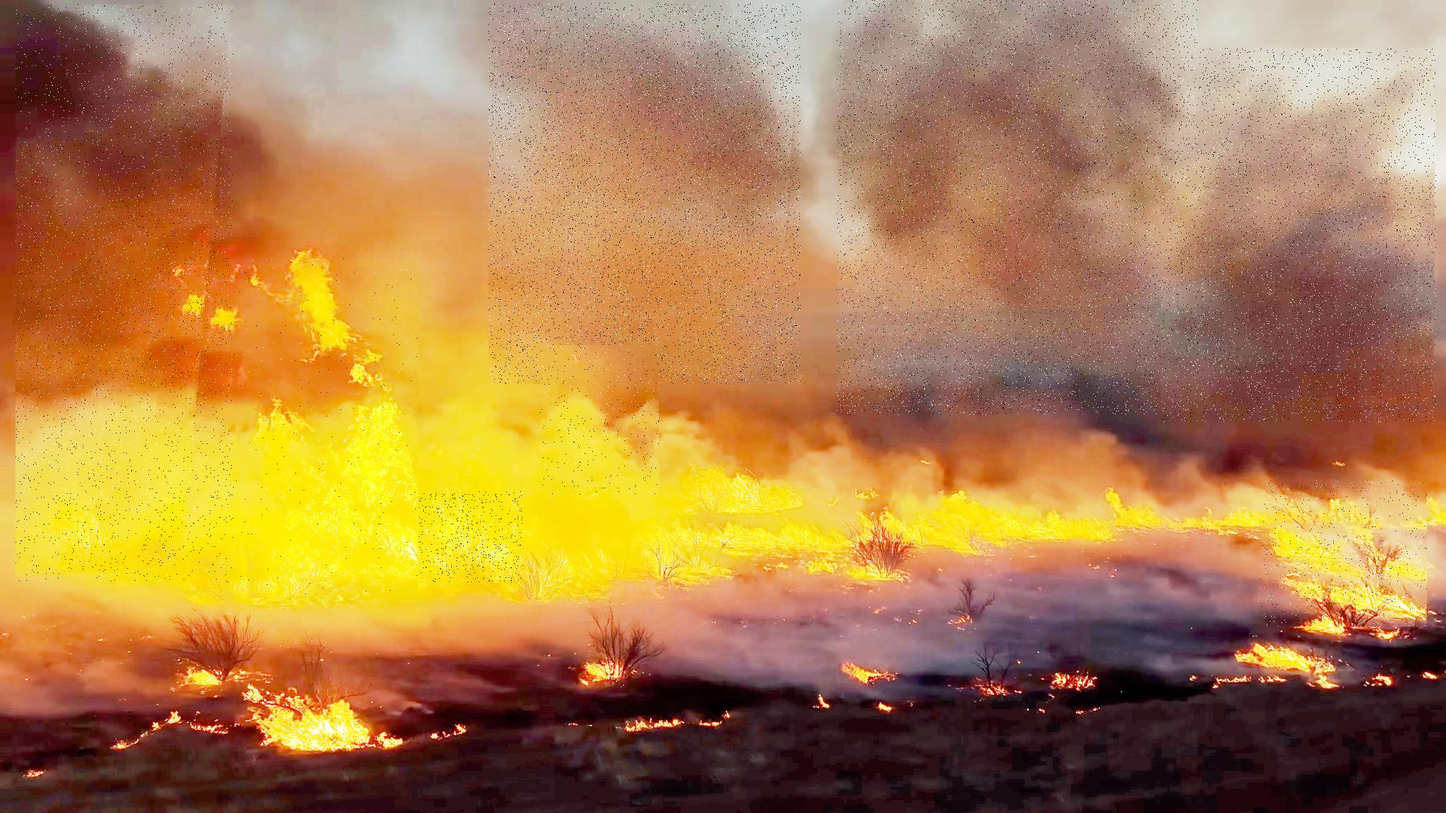fire: (223, 258, 418, 598), (1260, 480, 1427, 627), (419, 491, 523, 583)
smoke: (837, 0, 1198, 415), (16, 4, 233, 582), (489, 3, 801, 384), (1161, 48, 1436, 422), (540, 345, 659, 495)
